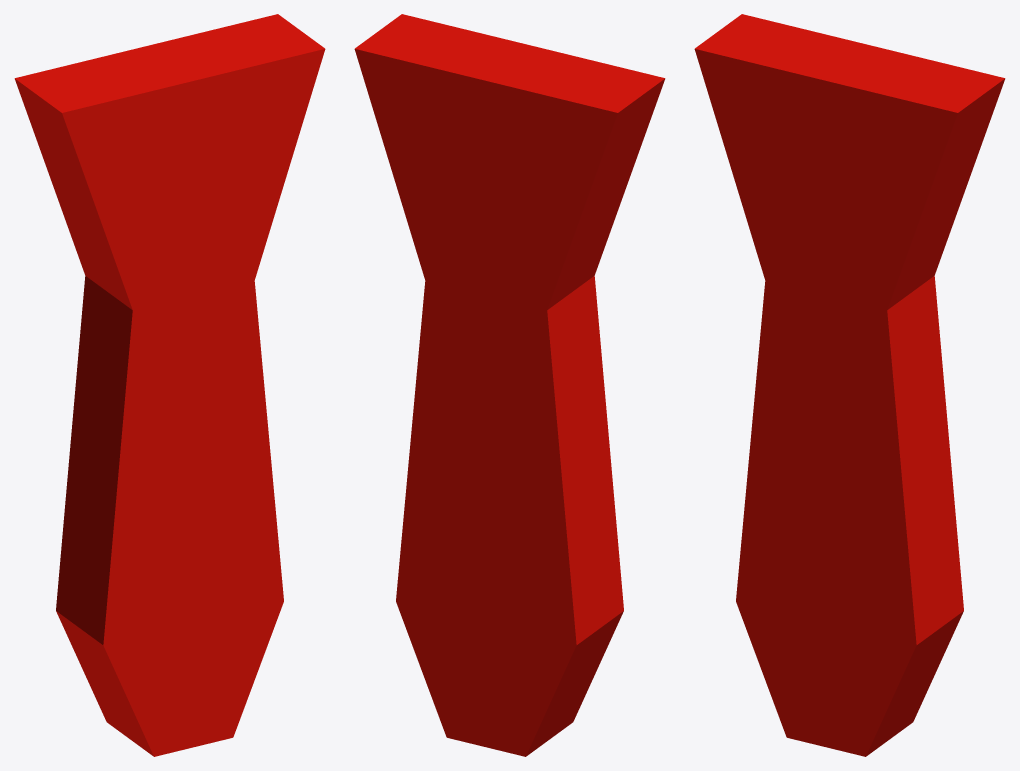
Rendered from tie.fbx.
3 renders of one model, left to right at view 1: azimuth 30°, elevation 25°; view 2: azimuth 150°, elevation 25°; view 3: azimuth 330°, elevation 25°, orthographic.
Parts seen in each view (by area): view 1: tie; view 2: tie; view 3: tie.
Boxes of the visible parts, x1=… form: tie: x1=14, y1=14, x2=325, y2=756; tie: x1=354, y1=14, x2=665, y2=756; tie: x1=694, y1=14, x2=1005, y2=756.
Size of the model in its own units: 36.97 by 89.34 by 11.54.
